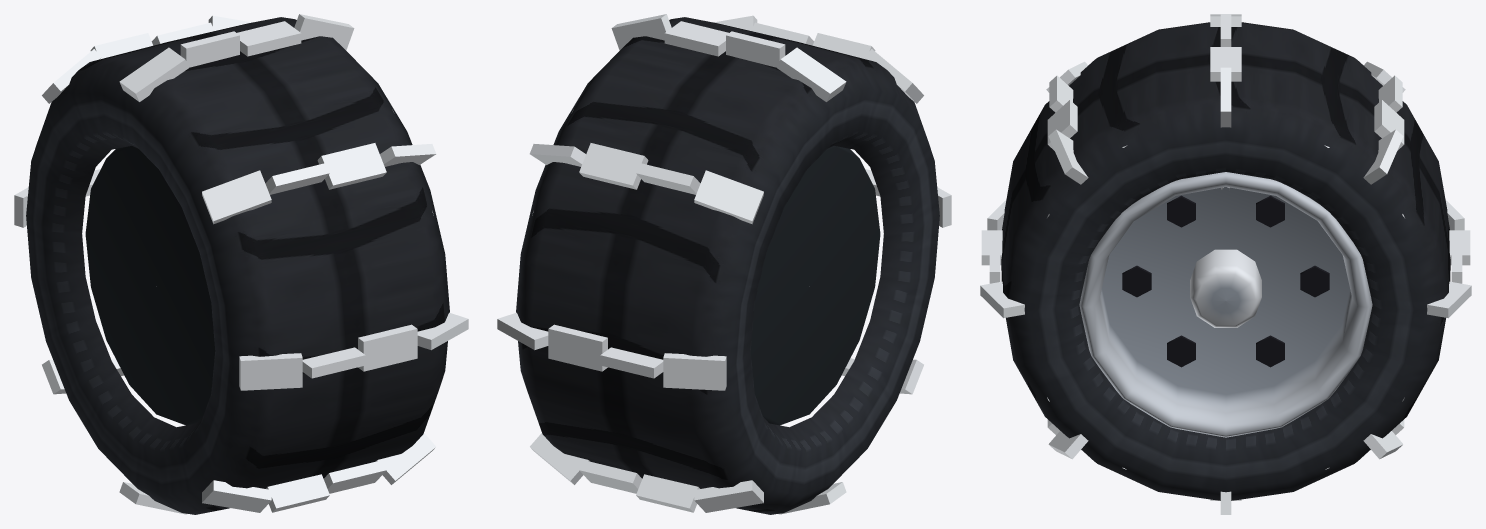
Rendered from neve.glb.
3 views of the same model, side by side, from view 1: azimuth 30°, elevation 25°; view 2: azimuth 150°, elevation 25°; view 3: azimuth 270°, elevation 25° (orthographic). The views are drawn at different scales.
Visible parts, largest first — view 1: tire; view 2: tire; view 3: tire.
Boxes of the visible parts, <box> form: tire: <box>14,14,468,514</box>; tire: <box>497,14,951,514</box>; tire: <box>980,14,1471,514</box>.
Bounding box in the file's own units: 0.9999 × 2 × 2.
Materials: 3 (1 with a texture image).
